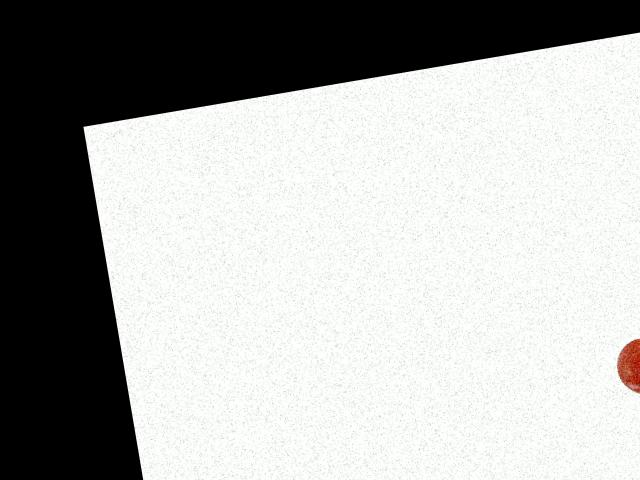tomato: (612, 333, 640, 398)
